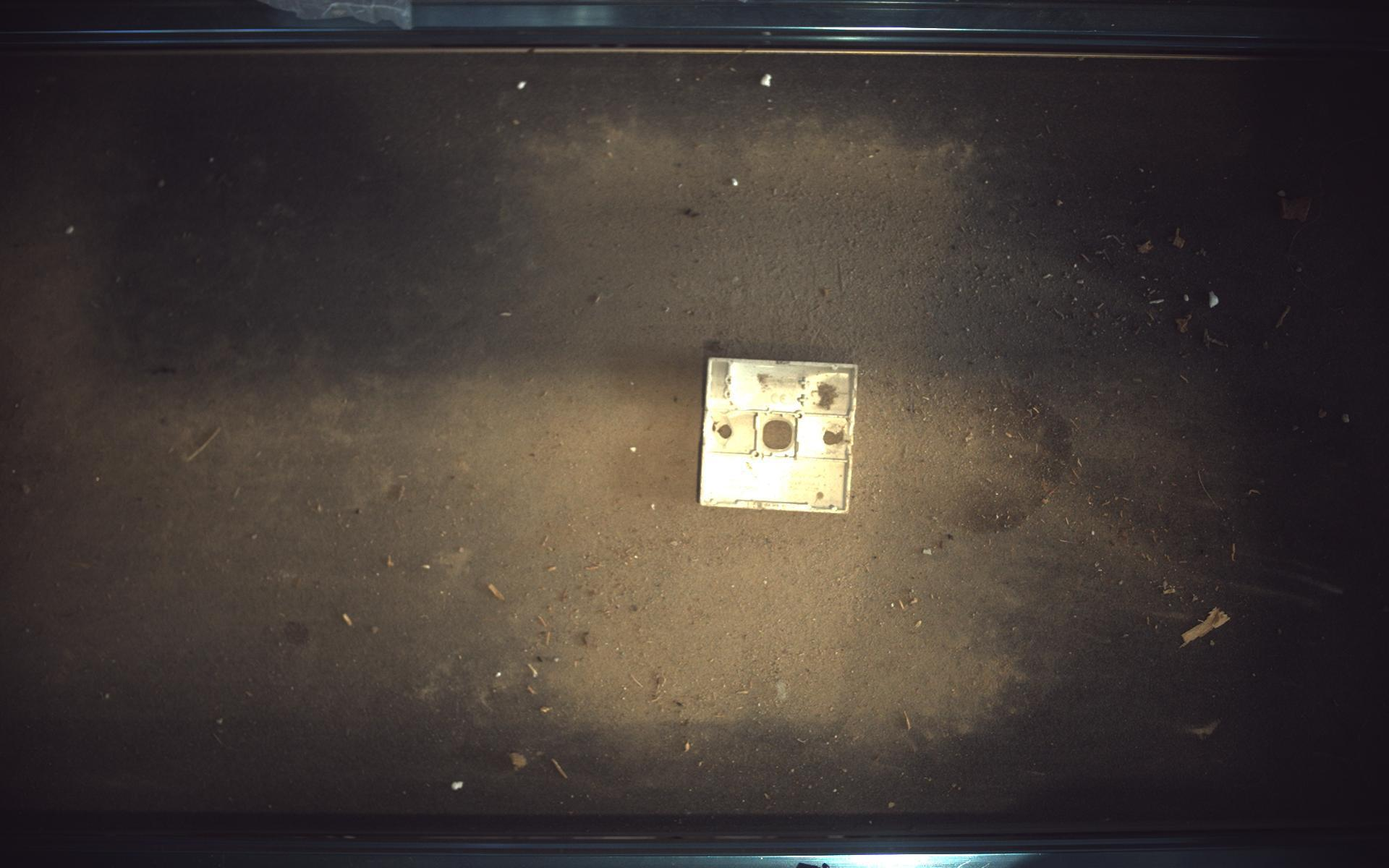plastic: (701, 358, 859, 514)
